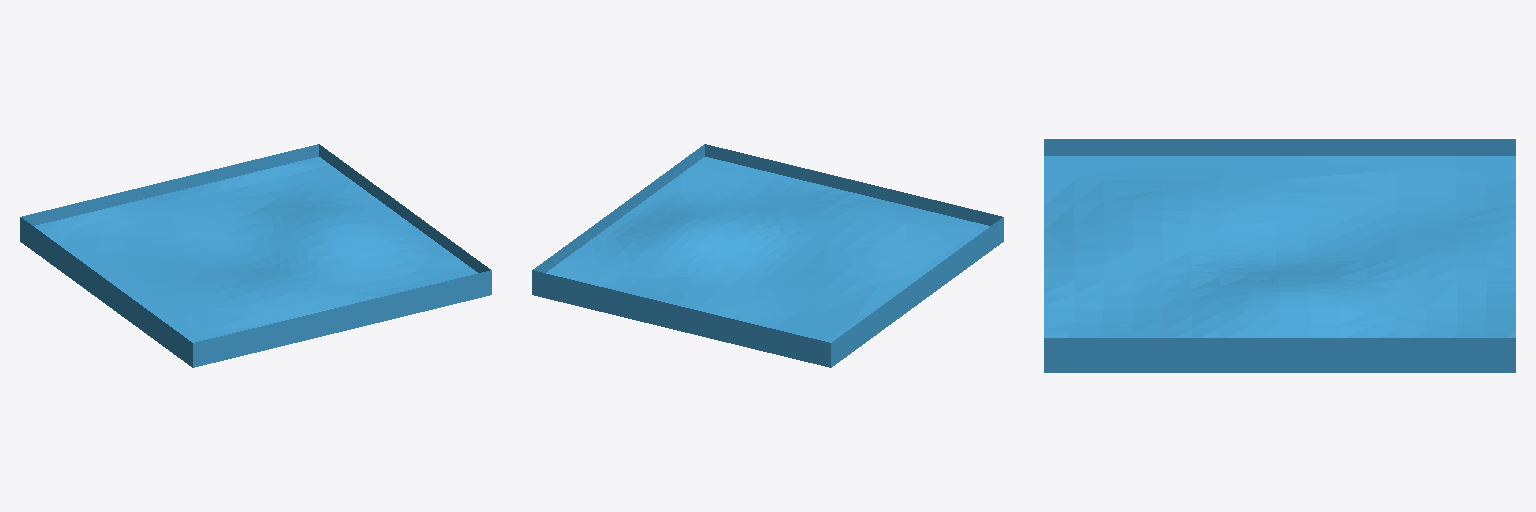
robot.urdf — liangcang:
<?xml version="1.0"?>
  <robot name="liangcang">
<!--base_link-->
     <link name="base_link">
       <collision>
            <geometry>
              <box size="0.00001 0.00001 0.00001"/>
            </geometry>
       </collision>
        <inertial>
           <mass value="1000000" />
           <origin xyz="0 0 0" rpy="0 0 0"/>
           <inertia ixx="1000000" ixy="0.0" ixz="0.0" iyy="1000000" iyz="0.0" izz="1000000" />
         </inertial>
     </link>
  <!--liangcang-->
  <joint name="liangcang_joint" type="fixed">
    <origin xyz="0 0 0" rpy="0 0 0"/>
    <parent link="base_link"/>
    <child link="liangcang"/>
  </joint>
  <link name="liangcang">
    <visual>
      <origin xyz="0 0 0" rpy="0 0 0"/>
      <geometry>
       <mesh filename= "package://shigu_gazebo/worlds/my_world/base_link.STL"/>
      </geometry>
    </visual>
    <collision>
      <origin xyz="0 0 0" rpy="0 0 0"/>
      <geometry>
       <mesh filename= "package://shigu_gazebo/worlds/my_world/base_link.STL"/>
      </geometry>
    </collision>
  </link>
  <gazebo reference="liangcang">
        <material>Gazebo/Orange</material>    
  </gazebo>
  <gazebo reference="base_link">
    <mu1>1</mu1>
    <mu2>1</mu2>
    <kp>500000.0</kp>
    <kd>100000.0</kd>
  </gazebo>  
  

  </robot>

--- What the picture shows (computed from the rendered views, not written in the file) ---
Views: 3 orthographic renders of the robot side by side, from view 1: azimuth 30°, elevation 25°; view 2: azimuth 150°, elevation 25°; view 3: azimuth 270°, elevation 25°.
Robot: liangcang — 2 links, 1 joints (1 fixed); root link base_link; default pose: all joints at 0.
Links seen in each view (by area): view 1: liangcang; view 2: liangcang; view 3: liangcang.
Boxes of the visible links, x1,y1,x2,y2 form: liangcang: [20, 144, 491, 367]; liangcang: [532, 144, 1003, 367]; liangcang: [1044, 139, 1515, 372].
Bounding box of the posed robot: 50 × 50 × 4 m (x, y, z).
Meshes: 1 distinct files referenced, 1 mesh visuals loaded (1 binary STL).
